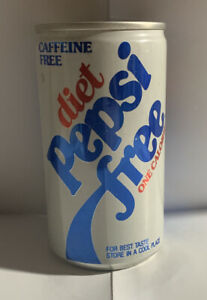Can: (27, 16, 171, 270)
